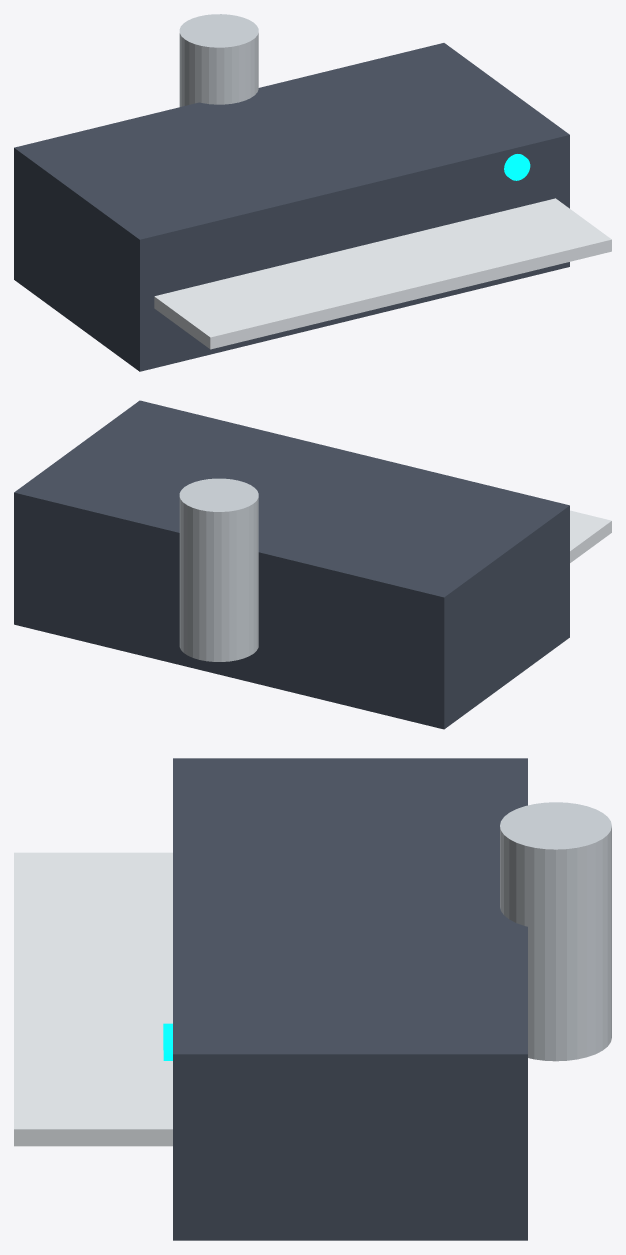
The model's file is rfid_reader.glb.
3 renders of one model, top to bottom at view 1: azimuth 30°, elevation 25°; view 2: azimuth 150°, elevation 25°; view 3: azimuth 270°, elevation 25°, orthographic. The views are drawn at different scales.
Parts seen in each view (by area): view 1: RFID_Housing, Radome_Face, Mount_Knuckle, Transceiver_LED; view 2: RFID_Housing, Mount_Knuckle, Radome_Face; view 3: RFID_Housing, Radome_Face, Mount_Knuckle.
Part boxes in pixels (bbox=[...]): RFID_Housing: bbox=[14, 43, 569, 371]; Radome_Face: bbox=[154, 198, 611, 349]; Mount_Knuckle: bbox=[179, 14, 258, 106]; Transceiver_LED: bbox=[504, 154, 530, 180]; RFID_Housing: bbox=[14, 400, 569, 729]; Mount_Knuckle: bbox=[179, 478, 258, 661]; Radome_Face: bbox=[570, 510, 611, 562]; RFID_Housing: bbox=[173, 758, 527, 1240]; Radome_Face: bbox=[14, 852, 172, 1146]; Mount_Knuckle: bbox=[500, 802, 611, 1061].
Size of the model in its own units: 0.75 by 0.315 by 0.64.
